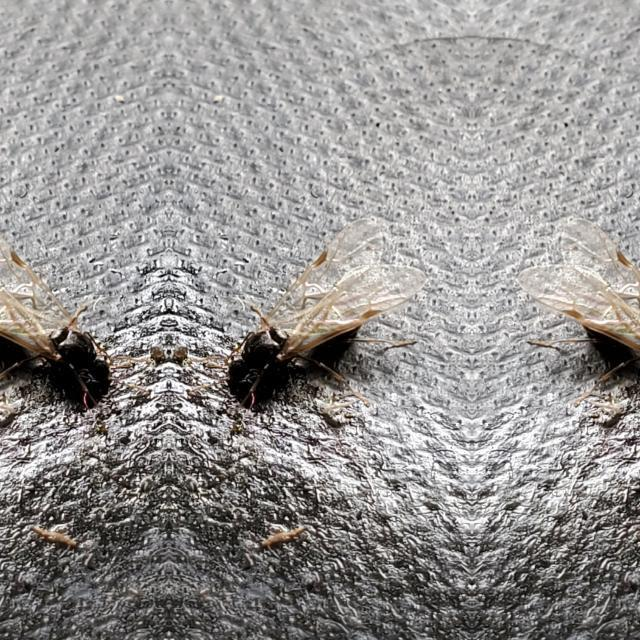Tetramorium: (215, 236, 393, 412), (0, 236, 120, 412), (548, 236, 640, 412)
